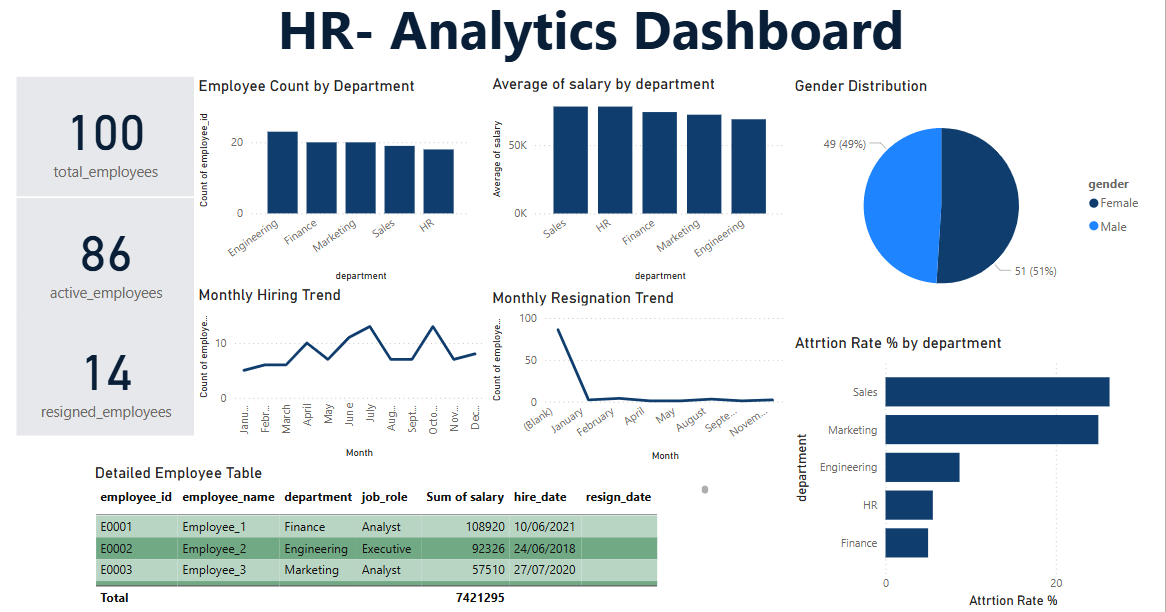

The page's visual inventory and layout, read from the dashboard file:
{"tool":"powerbi","page":{"name":"Page 1","canvas":[1280,720],"ordinal":0},"visuals":[{"type":"card","fields":{"Values":["HR_EmployeeData.employee_id"]},"box":[19.2,130,195.8,130.8],"z":0},{"type":"card","fields":{"Values":["HR_EmployeeData.active_employee"]},"box":[18.6,262.9,197.1,130],"z":1000},{"type":"card","fields":{"Values":["HR_EmployeeData.resigned_employee"]},"box":[18.6,394.3,197.1,130],"z":2000},{"type":"lineChart","title":"Monthly Hiring Trend","fields":{"Y":["HR_EmployeeData.employee_id"],"Category":["HR_EmployeeData.hire_date.Variation.Date Hierarchy.Month"]},"box":[214.3,360,322.9,194.3],"z":3000},{"type":"lineChart","title":"Monthly Resignation Trend","fields":{"Category":["HR_EmployeeData.resign_date.Variation.Date Hierarchy.Month"],"Y":["HR_EmployeeData.employee_id"]},"box":[537.1,362.9,331.4,195.7],"z":4000},{"type":"columnChart","title":"Employee Count by Department","fields":{"Y":["HR_EmployeeData.employee_id"],"Category":["HR_EmployeeData.department"]},"box":[214.3,130,308.6,230],"z":5000},{"type":"barChart","fields":{"Category":["HR_EmployeeData.department"],"Y":["HR_EmployeeData.Attrtion Rate %"]},"box":[868.6,411.4,397.1,307.1],"z":6000},{"type":"columnChart","fields":{"Category":["HR_EmployeeData.department"],"Y":["HR_EmployeeData.salary"]},"box":[537.1,127.1,331.4,232.9],"z":7000},{"type":"pieChart","title":"Gender Distribution","fields":{"Category":["HR_EmployeeData.gender"],"Y":["HR_EmployeeData.employee_id"]},"box":[868.6,130,397.1,264.3],"z":8000},{"type":"tableEx","title":"Detailed Employee Table","fields":{"Values":["HR_EmployeeData.employee_id","HR_EmployeeData.employee_name","HR_EmployeeData.department","HR_EmployeeData.job_role","HR_EmployeeData.salary","HR_EmployeeData.hire_date","HR_EmployeeData.resign_date"]},"box":[100,554.3,684.3,164.3],"z":9000},{"type":"textbox","box":[18.6,31.4,1261.4,95.7],"z":10000}]}

Visuals, with their boxes on the page's 1280x720 design canvas (x1, y1, x2, y2). These are canvas units, not pixel positions in the 1166x612 screenshot, which may show the page scaled, cropped or inside an application window:
card - HR_EmployeeData.employee_id: bbox(19, 130, 215, 261)
card - HR_EmployeeData.active_employee: bbox(19, 263, 216, 393)
card - HR_EmployeeData.resigned_employee: bbox(19, 394, 216, 524)
"Monthly Hiring Trend" lineChart: bbox(214, 360, 537, 554)
"Monthly Resignation Trend" lineChart: bbox(537, 363, 868, 559)
"Employee Count by Department" columnChart: bbox(214, 130, 523, 360)
barChart - HR_EmployeeData.department x HR_EmployeeData.Attrtion Rate %: bbox(869, 411, 1266, 718)
columnChart - HR_EmployeeData.department x HR_EmployeeData.salary: bbox(537, 127, 868, 360)
"Gender Distribution" pieChart: bbox(869, 130, 1266, 394)
"Detailed Employee Table" tableEx: bbox(100, 554, 784, 719)
textbox: bbox(19, 31, 1280, 127)
